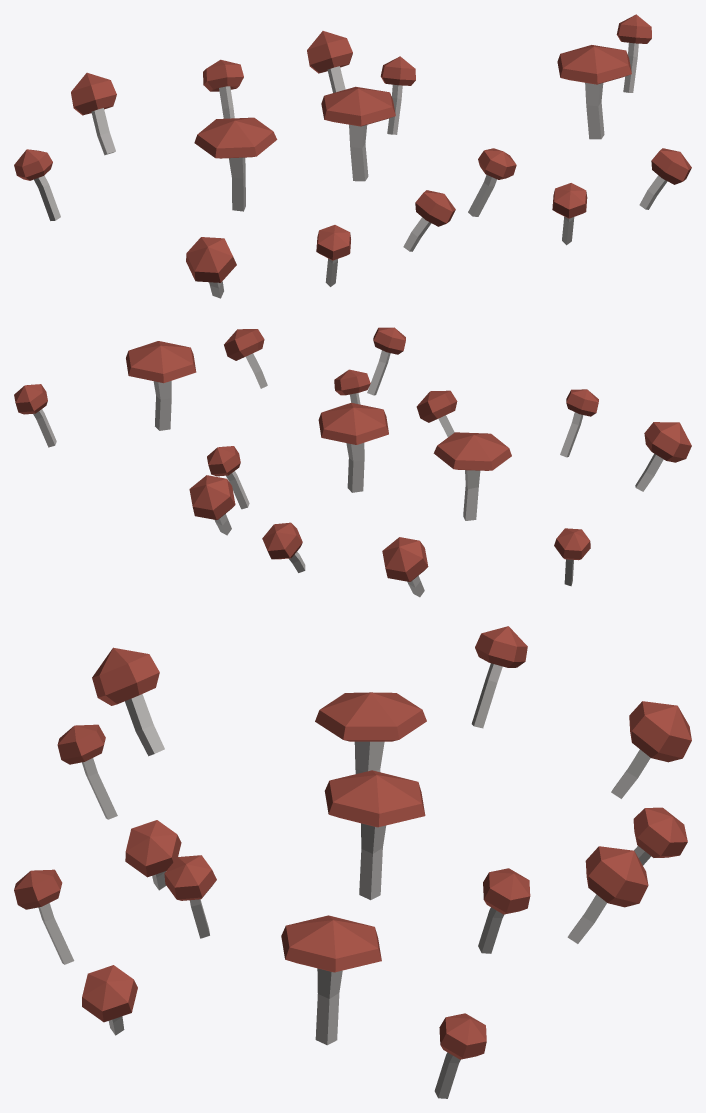
Rendered from SM_Prop_Mushroom_Sparse_04.fbx.
3 renders of one model, top to bottom at view 1: azimuth 30°, elevation 25°; view 2: azimuth 150°, elevation 25°; view 3: azimuth 270°, elevation 25°, orthographic. The views are drawn at different scales.
Visible parts, largest first — view 1: SM_Prop_Mushroom_Sparse_04; view 2: SM_Prop_Mushroom_Sparse_04; view 3: SM_Prop_Mushroom_Sparse_04.
Boxes of the visible parts, x1,y1,x2,y2 form: SM_Prop_Mushroom_Sparse_04: (14,14,691,298); SM_Prop_Mushroom_Sparse_04: (14,327,691,597); SM_Prop_Mushroom_Sparse_04: (14,626,691,1098).
Bounding box in the file's own units: 168 × 25.39 × 118.
1 material, 1 textured.
